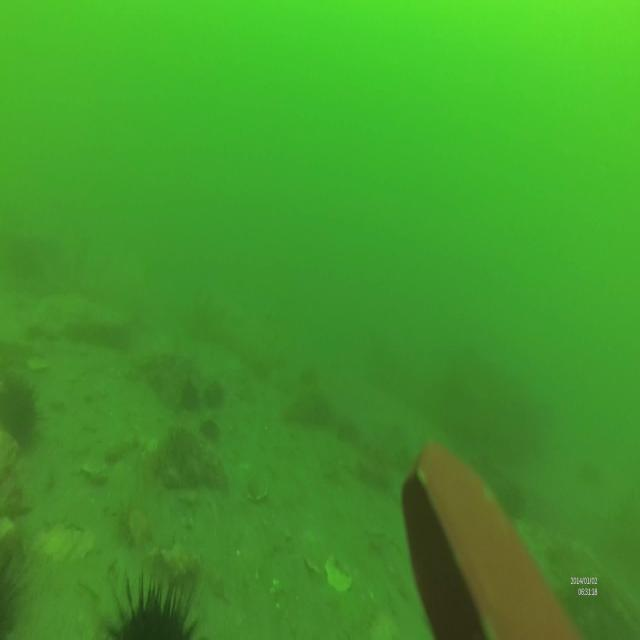echinus: (104, 562, 205, 640), (0, 533, 34, 640), (0, 374, 44, 454)
